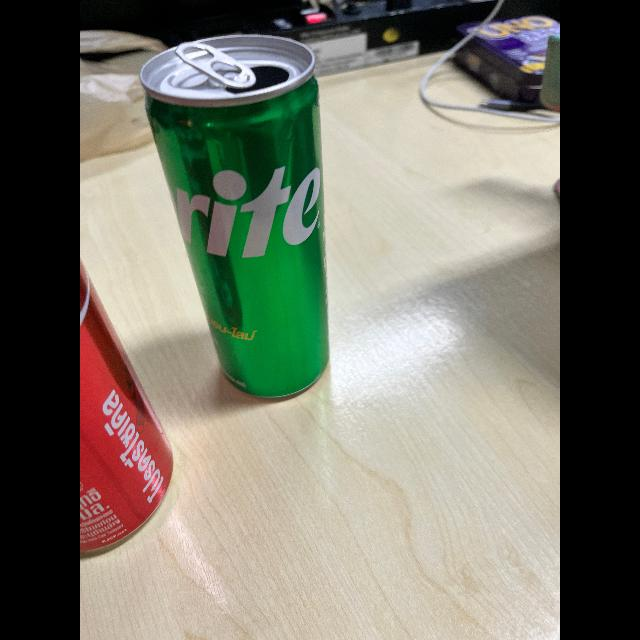can: (133, 35, 383, 408), (80, 247, 200, 558)
